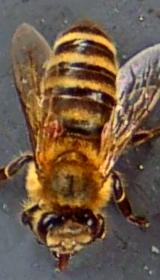varroa_mite: (38, 115, 72, 141)
